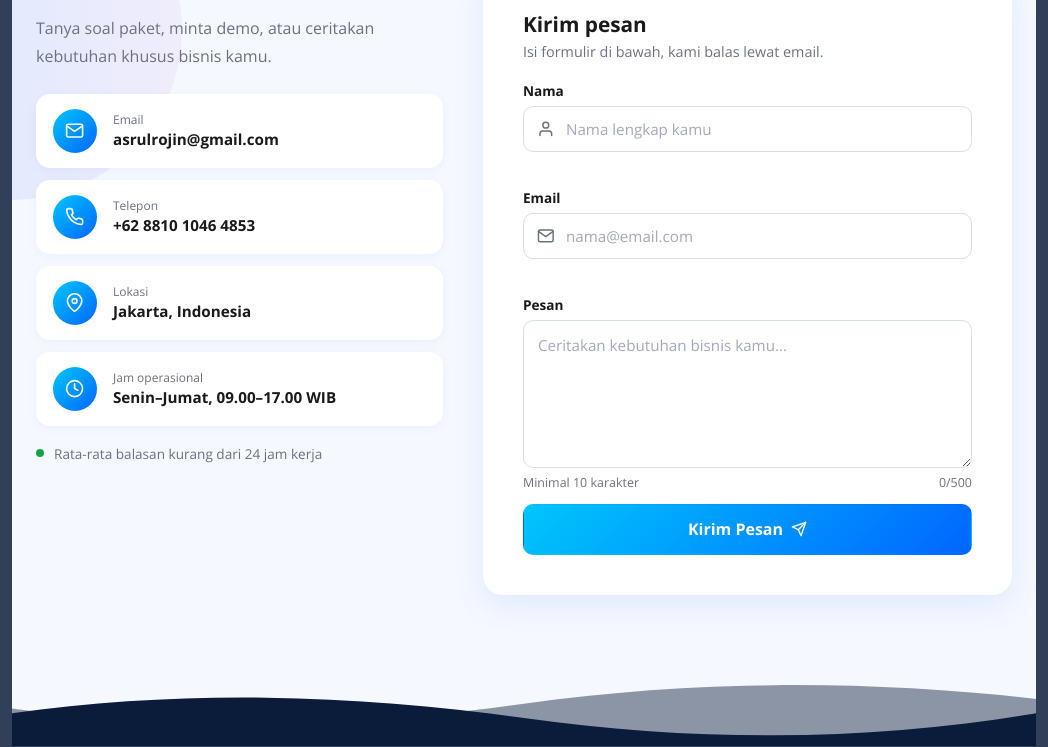
Scenario: Contact › menampilkan error dan fokus ke field pertama saat submit kosong
(page scrolled)
Click the button "Kirim Pesan" at (748, 529), box [523,504,972,555]
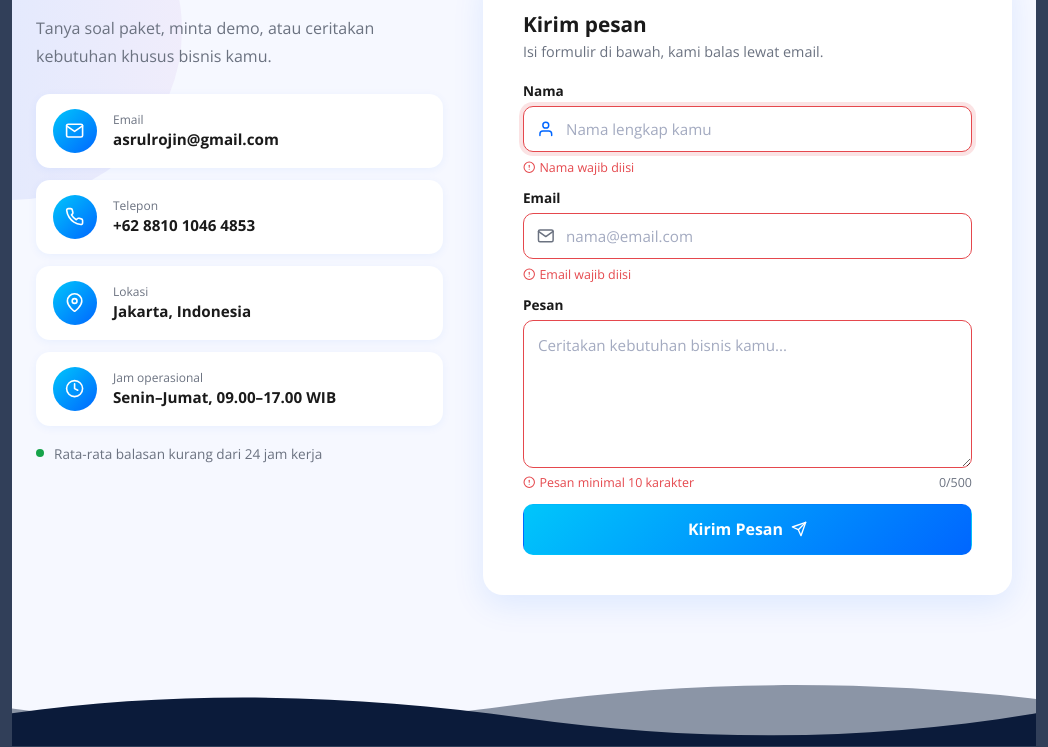
Now the number of messages is 3, box [523,158,634,176]; [523,265,631,283]; [523,474,694,492]
